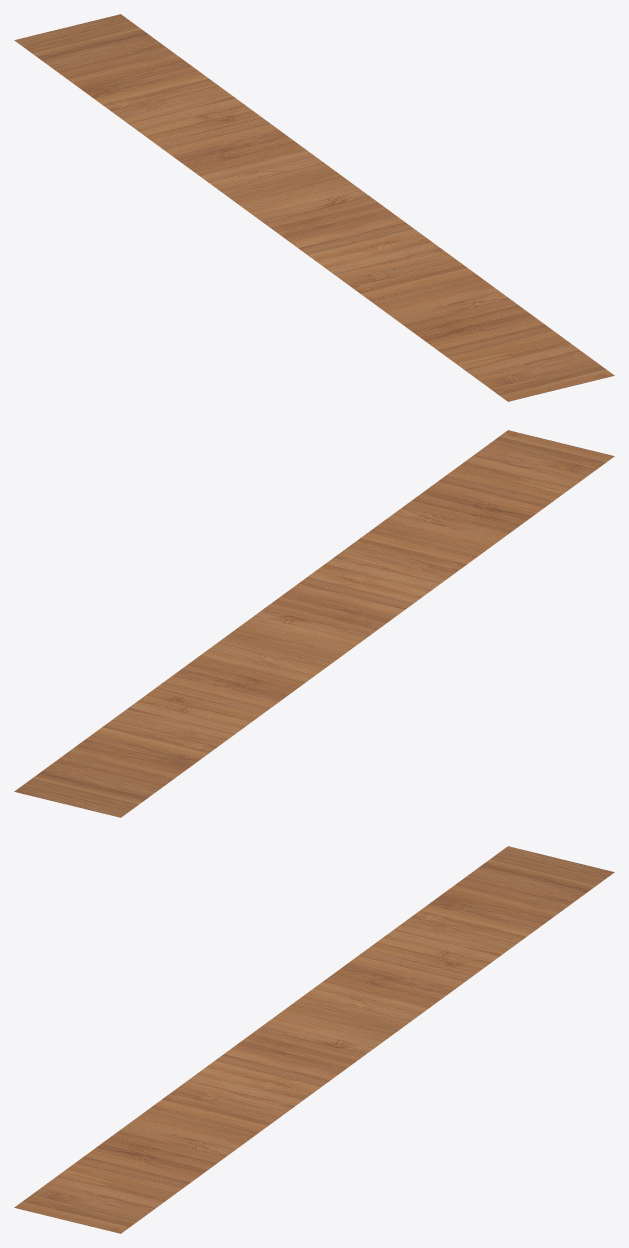
The model's file is GYM_Floor_Wood_2.fbx.
3 renders of one model, top to bottom at view 1: azimuth 30°, elevation 25°; view 2: azimuth 150°, elevation 25°; view 3: azimuth 330°, elevation 25°, orthographic.
Visible parts, largest first — view 1: GYM_Wood_Floor_8; view 2: GYM_Wood_Floor_8; view 3: GYM_Wood_Floor_8.
Boxes of the visible parts, x1=… form: GYM_Wood_Floor_8: x1=14, y1=14, x2=614, y2=401; GYM_Wood_Floor_8: x1=14, y1=430, x2=614, y2=817; GYM_Wood_Floor_8: x1=14, y1=846, x2=614, y2=1233.
Bounding box in the file's own units: 0.5 × 8.88e-16 × 4.
1 material, 1 textured.
